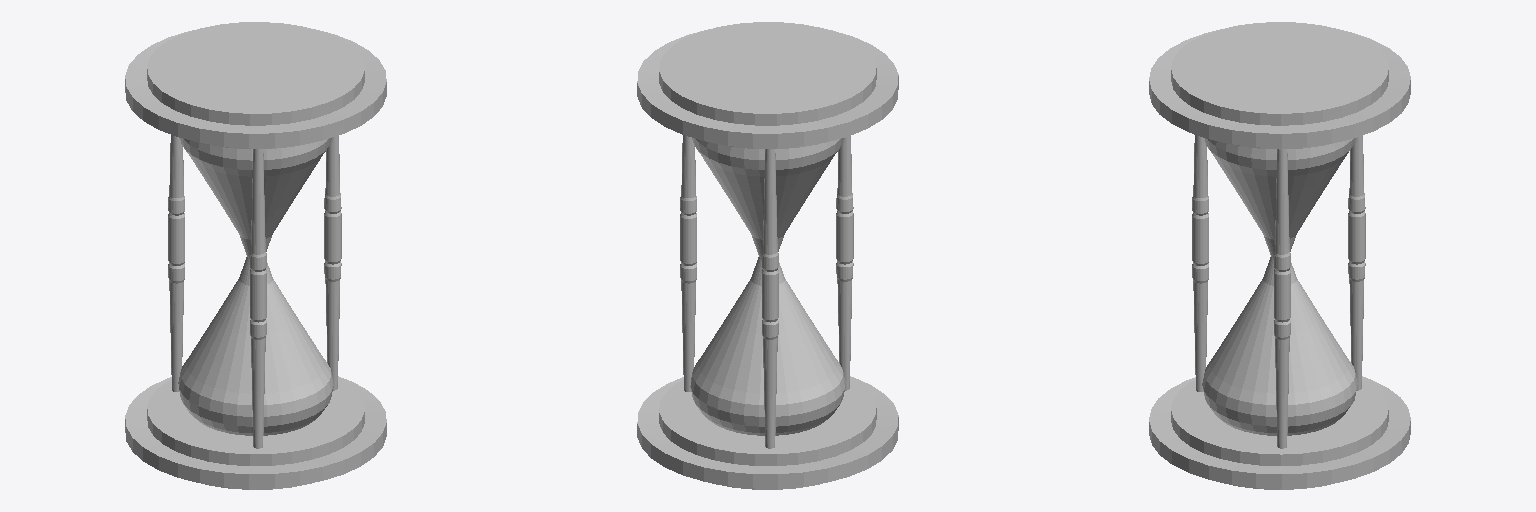
File: Hourglass.obj
The picture shows the model from 3 angles: view 1: azimuth 30°, elevation 25°; view 2: azimuth 150°, elevation 25°; view 3: azimuth 270°, elevation 25°; orthographic projection.
Parts seen in each view (by area): view 1: Sanduhr_Sanduhr_mesh; view 2: Sanduhr_Sanduhr_mesh; view 3: Sanduhr_Sanduhr_mesh.
Part boxes in pixels (left/top/right/bottom): Sanduhr_Sanduhr_mesh: left=125, top=22, right=386, bottom=489; Sanduhr_Sanduhr_mesh: left=637, top=22, right=898, bottom=489; Sanduhr_Sanduhr_mesh: left=1149, top=22, right=1410, bottom=489.
Bounding box in the file's own units: 4.63 × 7.34 × 4.63.